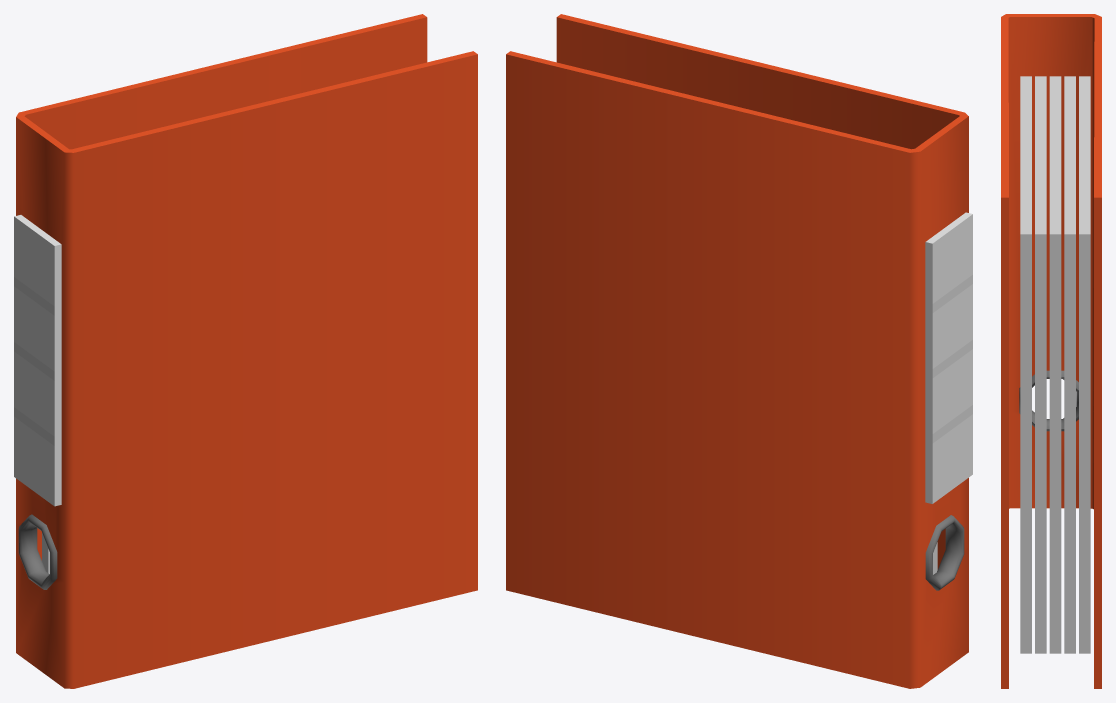
3 renders of one model, left to right at view 1: azimuth 30°, elevation 25°; view 2: azimuth 150°, elevation 25°; view 3: azimuth 270°, elevation 25°, orthographic. The views are drawn at different scales.
Parts seen in each view (by area): view 1: File04; view 2: File04; view 3: File04.
Part boxes in pixels (box(x1,y1,x2,y2)): File04: box(14, 14, 477, 688); File04: box(506, 14, 972, 688); File04: box(1001, 14, 1101, 688).
Size of the model in its own units: 0.2751 by 0.0628 by 0.3374.
